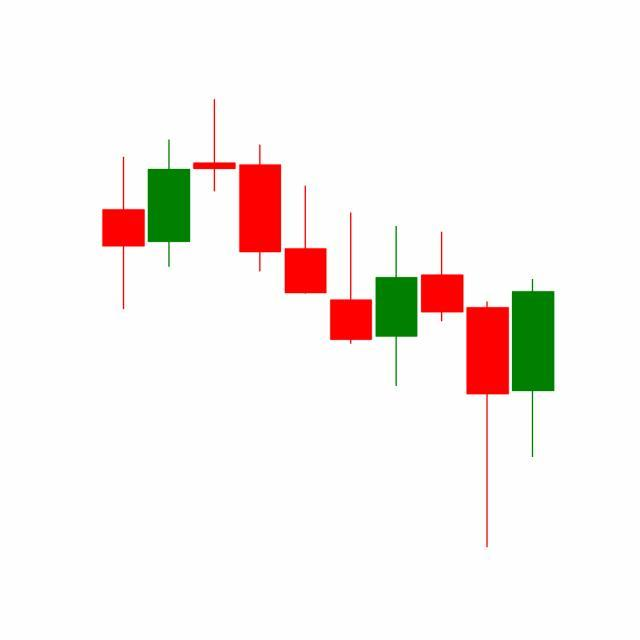Hikkake Pattern: (283, 182, 512, 548)
